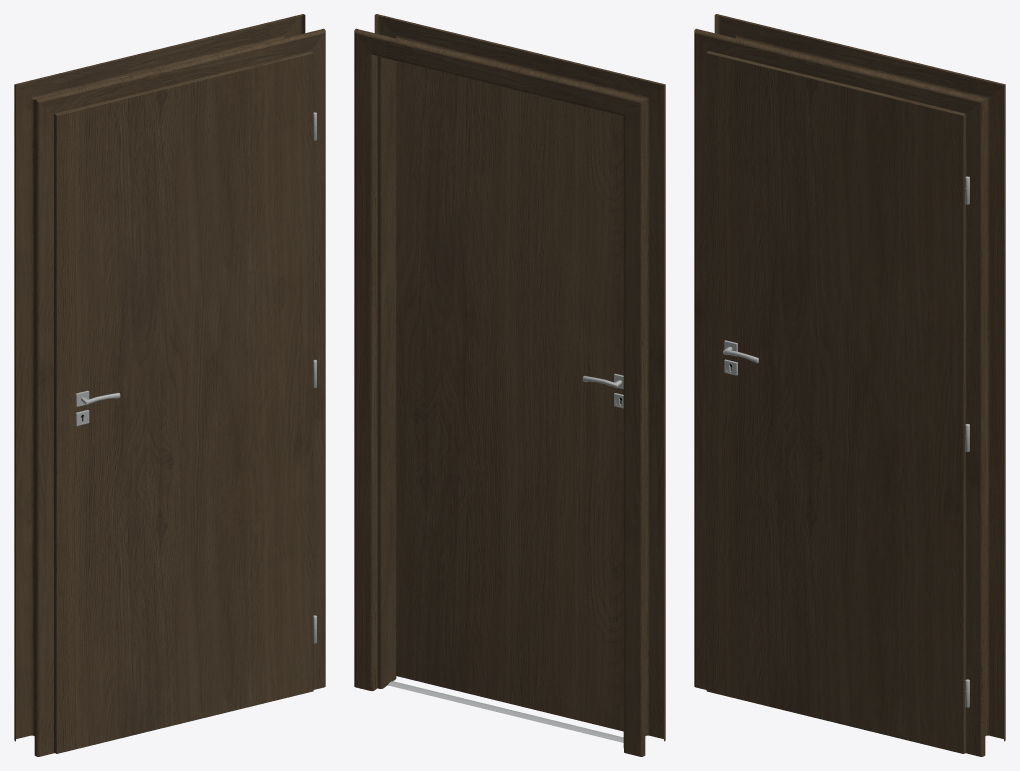
The model's file is door.glb.
3 views of the same model, side by side, from view 1: azimuth 30°, elevation 25°; view 2: azimuth 150°, elevation 25°; view 3: azimuth 330°, elevation 25° (orthographic).
Parts seen in each view (by area): view 1: dvere, ram; view 2: dvere, ram; view 3: dvere, ram.
Part boxes in pixels (box(x1,y1,x2,y2)): dvere: box(54, 51, 316, 753); ram: box(14, 14, 325, 756); dvere: box(396, 61, 623, 731); ram: box(354, 14, 665, 756); dvere: box(706, 51, 969, 753); ram: box(694, 14, 1005, 756).
Size of the model in its own units: 0.9596 by 2.08 by 0.1939.
Materials: 4 (1 with a texture image).
